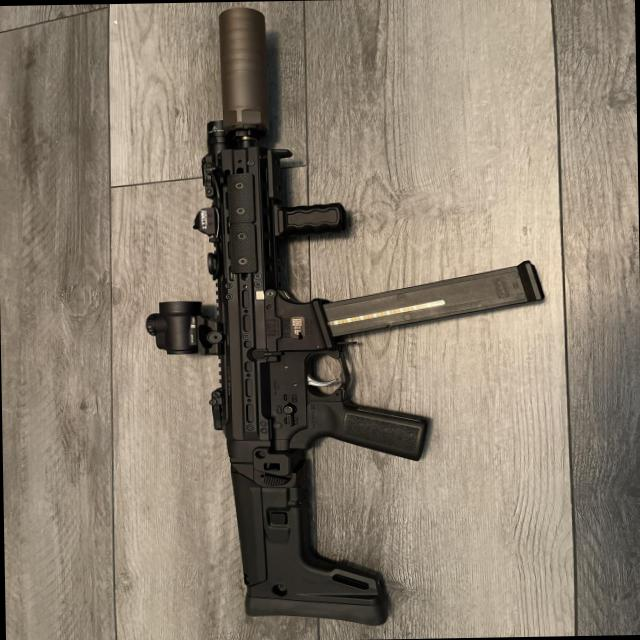Weapon: (190, 0, 553, 633)
